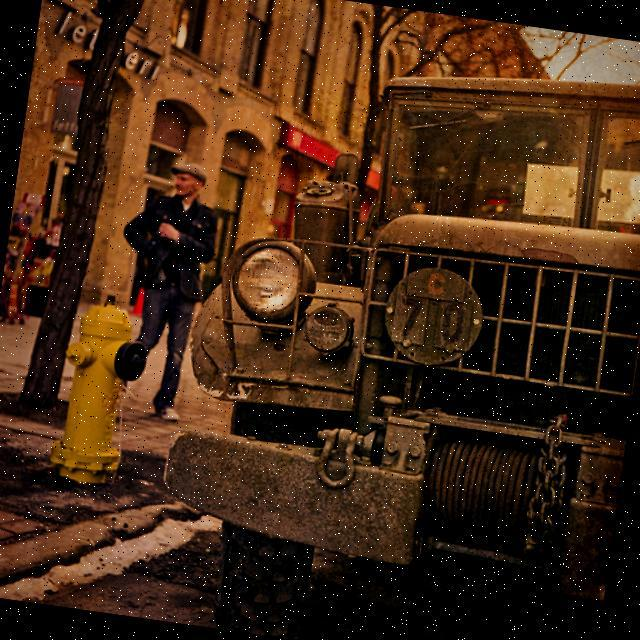fire_hydrant: (45, 284, 157, 488)
